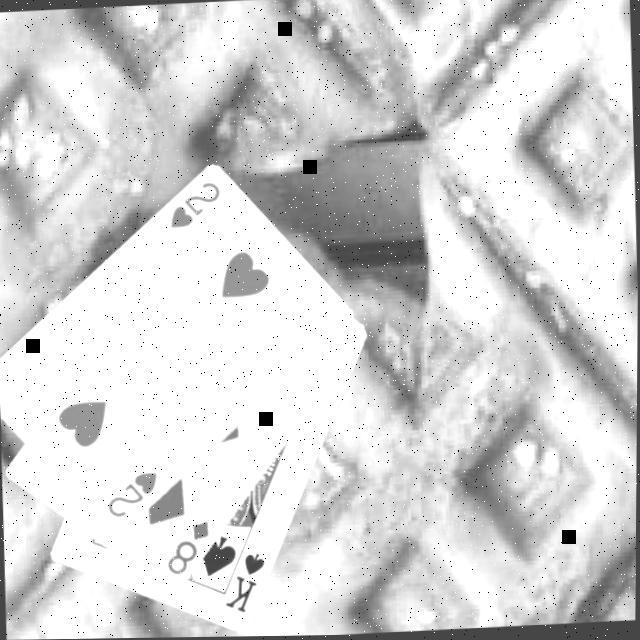2H: (163, 179, 223, 234), (101, 469, 161, 523)
8D: (161, 517, 213, 581)
KS: (220, 551, 269, 620)
